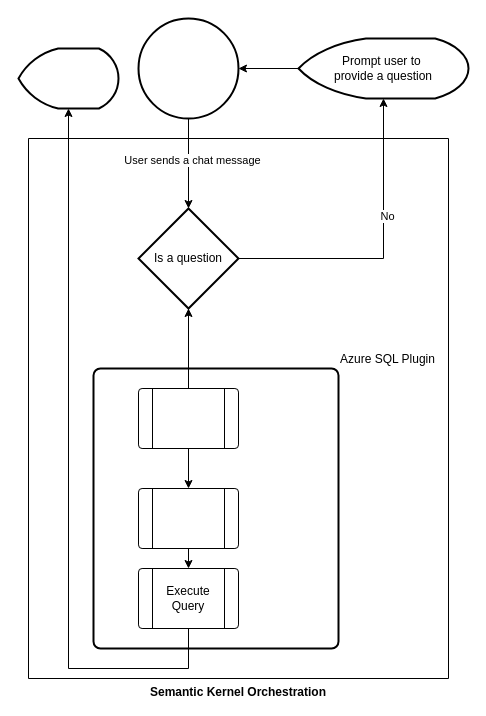
Image size: 486x716. Some labels were removed from this diagram. Each missing label, with the centre of its shape:
"Display Result" goes at point 68,78.
"Fetch Metadata" goes at point 188,418.
"Generate Query" goes at point 188,518.
